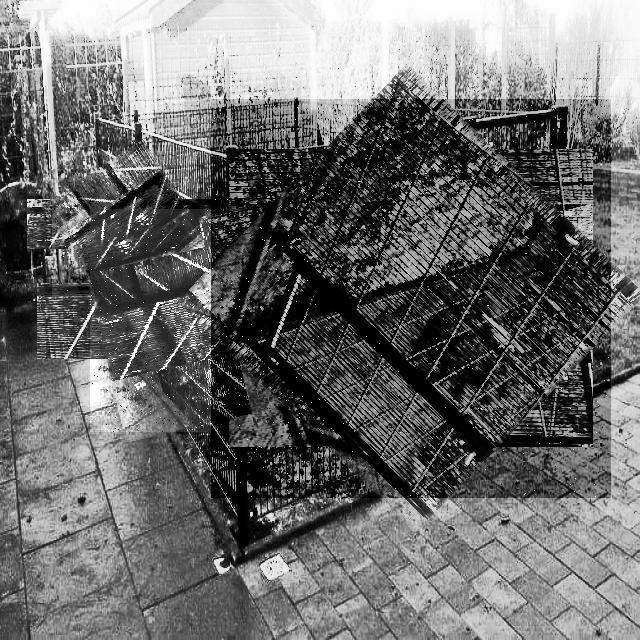fences: (211, 99, 611, 498), (90, 209, 313, 432), (52, 151, 197, 297)
